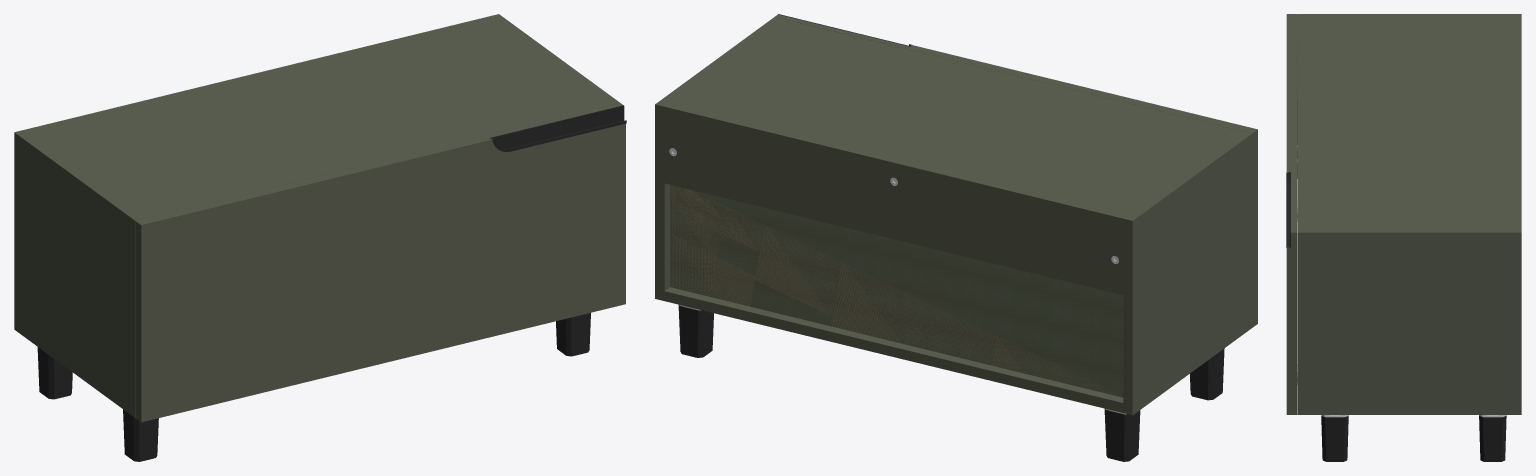
The picture shows the model from 3 angles, left to right: view 1: azimuth 30°, elevation 25°; view 2: azimuth 150°, elevation 25°; view 3: azimuth 270°, elevation 25°; orthographic projection. The views are drawn at different scales.
Visible parts, largest first — view 1: group_0.006, group_0.014, Cube.001, Cube.002, Cube.005; view 2: group_0.006, group_0.136, Cube.002, Cube.004, Cube.001; view 3: group_0.006, Cube.004, Cube.005, group_0.014.
Part boxes in pixels (<box>): group_0.006: <box>14,14,625,422</box>; group_0.014: <box>489,105,626,151</box>; Cube.001: <box>123,409,158,461</box>; Cube.002: <box>37,347,72,399</box>; Cube.005: <box>556,313,590,356</box>; group_0.006: <box>655,14,1257,415</box>; group_0.136: <box>670,185,1123,397</box>; Cube.002: <box>1104,409,1140,461</box>; Cube.004: <box>678,305,713,357</box>; Cube.001: <box>1190,348,1224,400</box>; group_0.006: <box>1286,14,1521,414</box>; Cube.004: <box>1479,415,1506,461</box>; Cube.005: <box>1321,415,1348,461</box>; group_0.014: <box>1286,172,1290,247</box>.
Size of the model in its own units: 0.9012 by 0.453 by 0.409.
15 materials, 8 textured.
